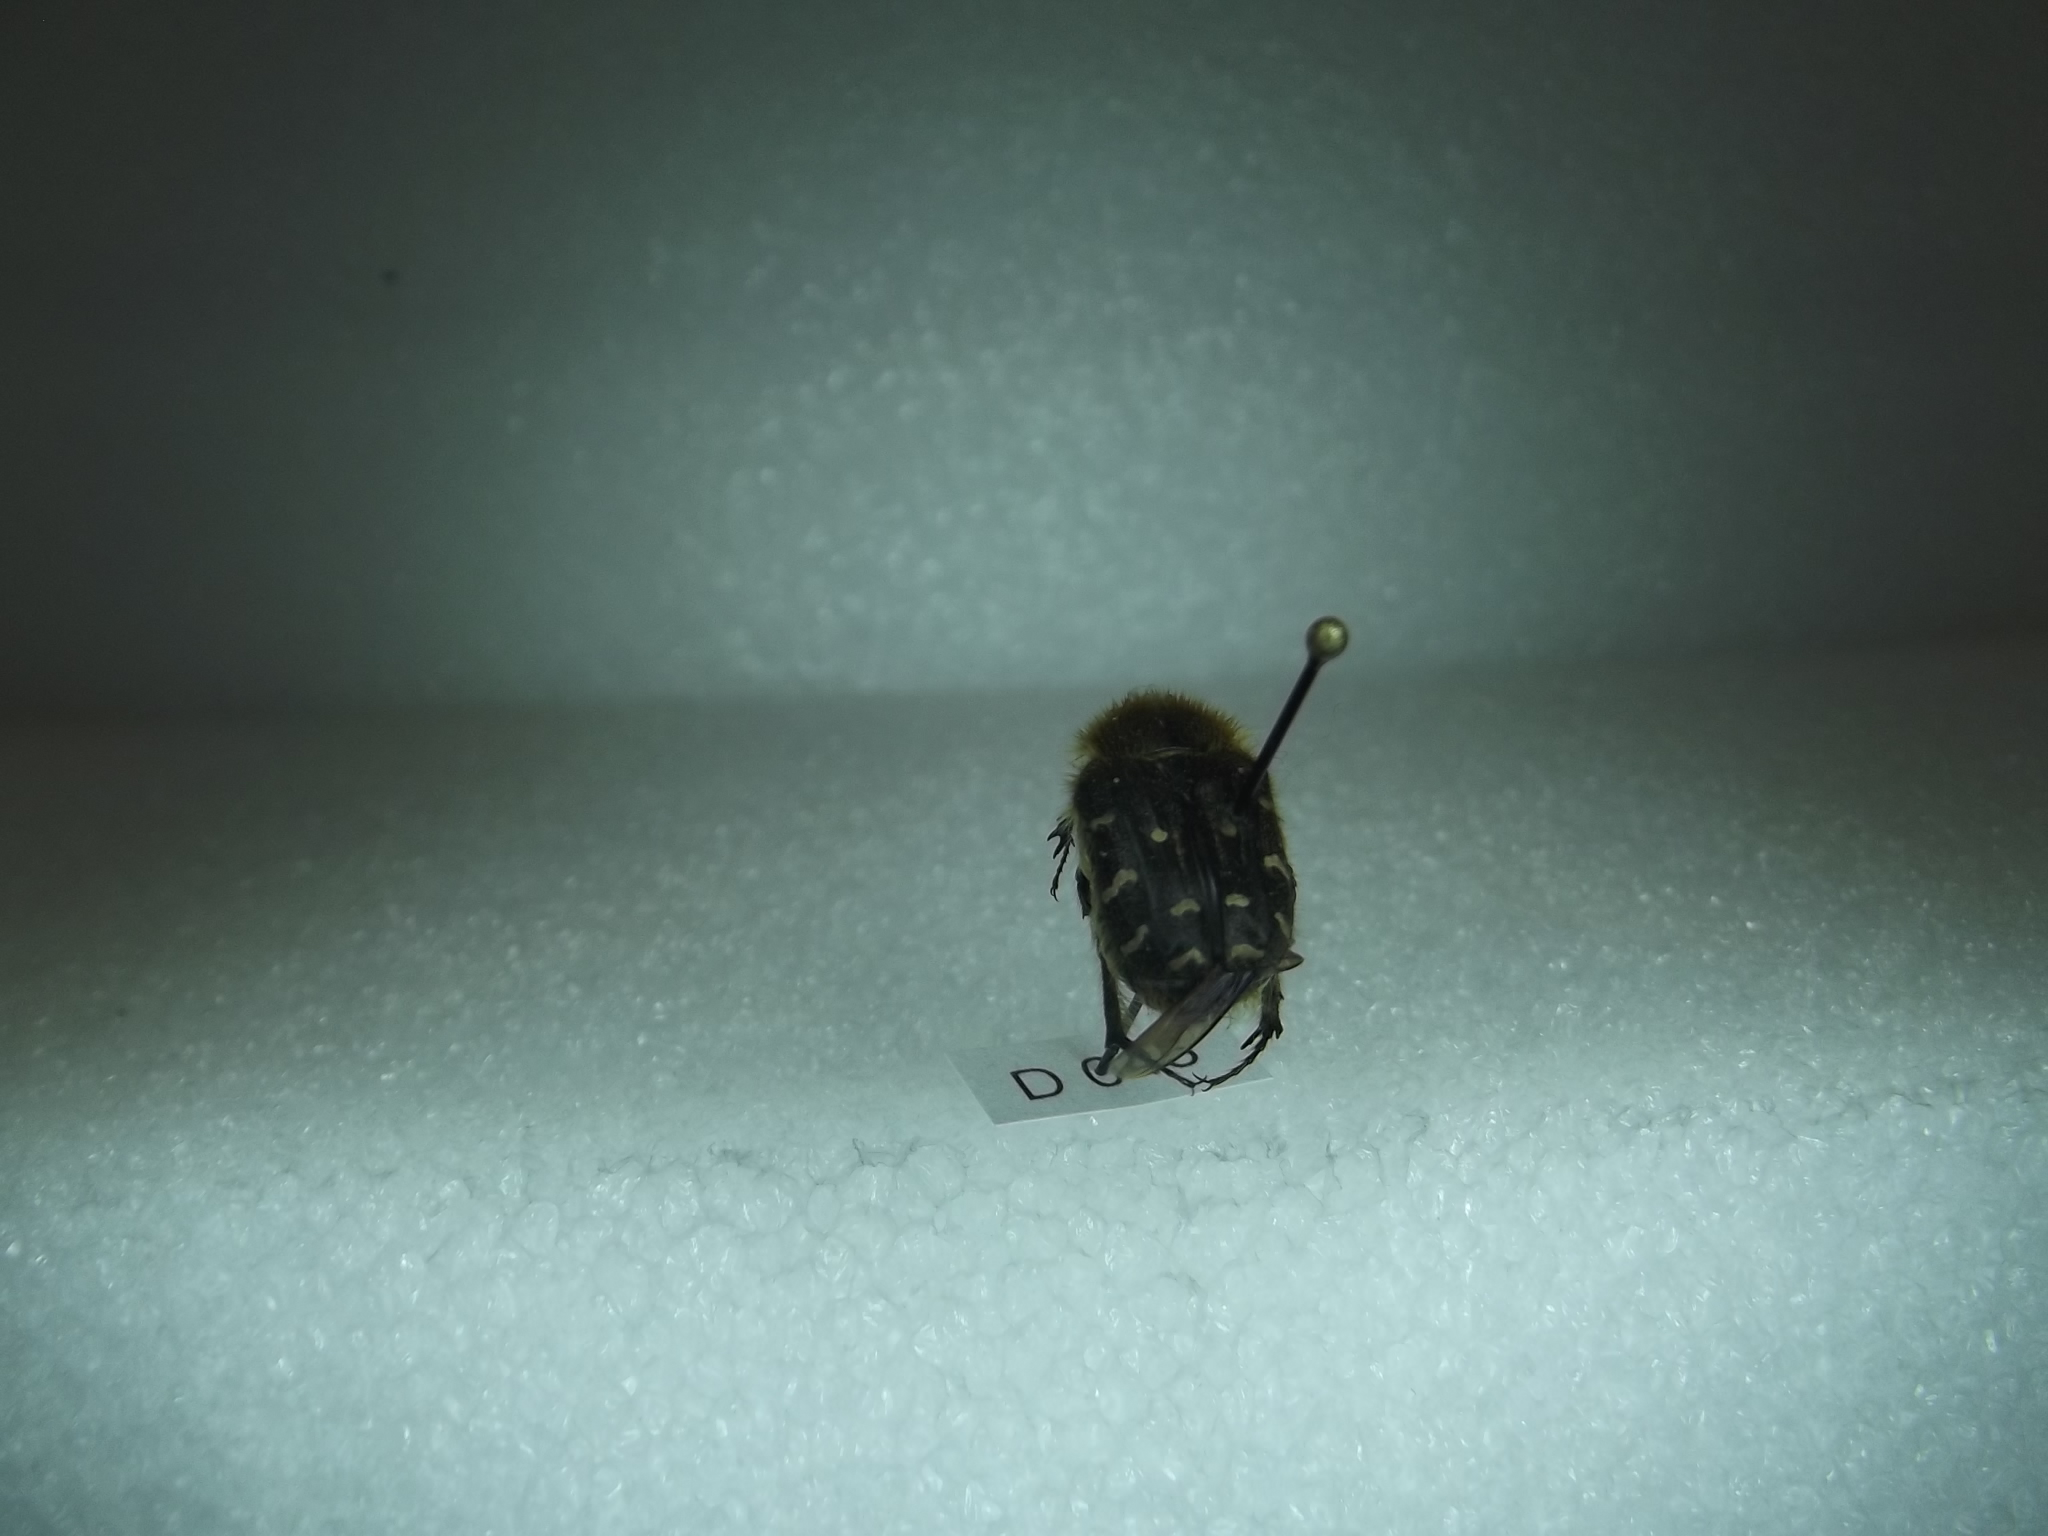Tropinota_hirta: (1032, 658, 1305, 1112)
